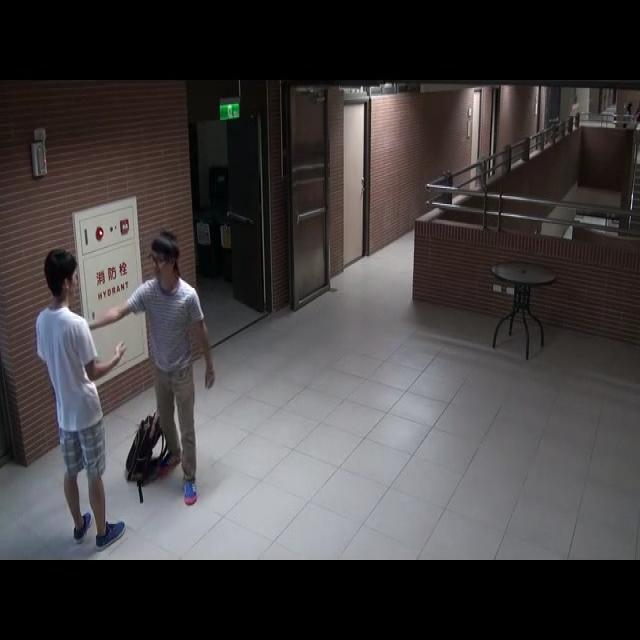abandoned-object: (122, 409, 180, 486)
